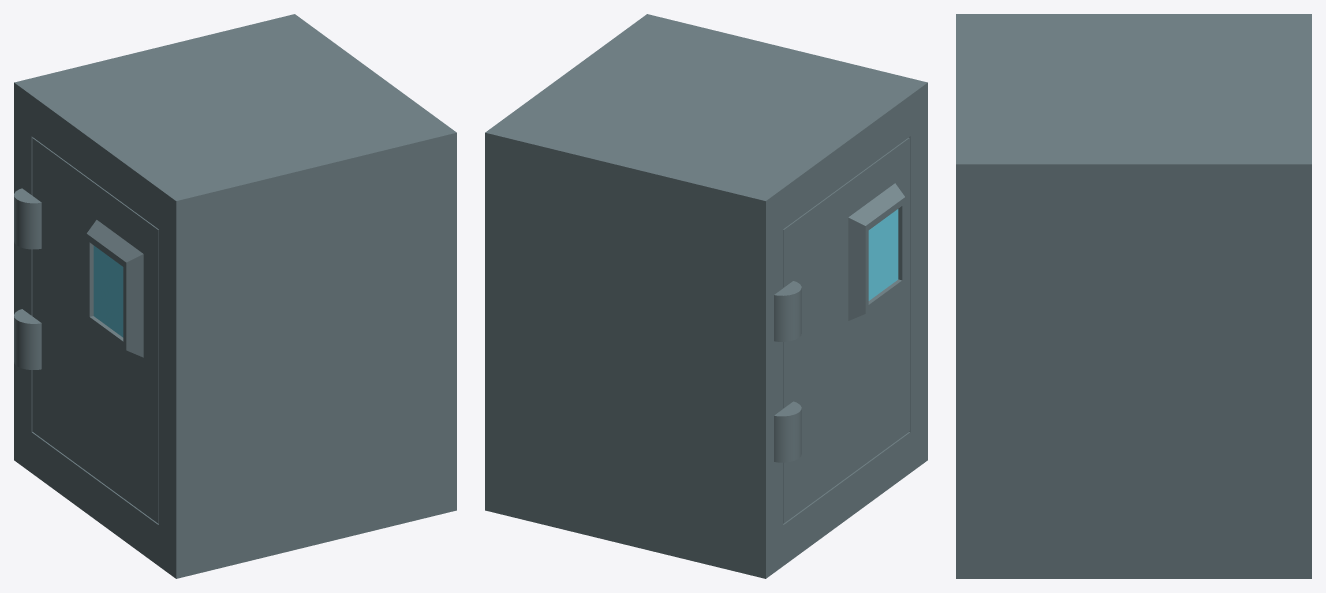
Rendered from Safe.fbx.
3 renders of one model, left to right at view 1: azimuth 30°, elevation 25°; view 2: azimuth 150°, elevation 25°; view 3: azimuth 270°, elevation 25°, orthographic. The views are drawn at different scales.
Visible parts, largest first — view 1: SafeBody, SafeDoor, SafePanel, SafeHinge, SafeHinge1; view 2: SafeBody, SafeDoor, SafePanel, SafeHinge, SafeHinge1; view 3: SafeBody.
Boxes of the visible parts, x1,y1,x2,y2 form: SafeBody: (14, 14, 456, 578); SafeDoor: (32, 137, 158, 523); SafePanel: (86, 220, 143, 357); SafeHinge: (14, 188, 41, 249); SafeHinge1: (14, 309, 41, 369); SafeBody: (485, 14, 927, 578); SafeDoor: (783, 137, 909, 523); SafePanel: (848, 183, 905, 320); SafeHinge: (774, 281, 801, 341); SafeHinge1: (774, 401, 801, 462); SafeBody: (956, 14, 1311, 578).
Size of the model in its own units: 36.39 by 44.35 by 34.49.
1 material, 1 textured.
